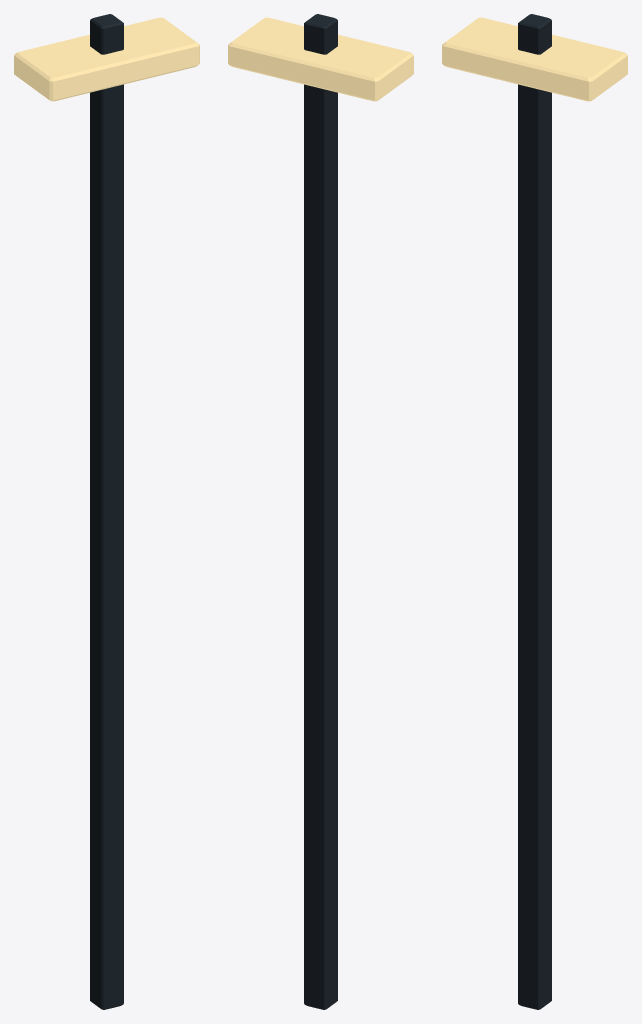
The model's file is lamp-existing.glb.
3 views of the same model, side by side, from view 1: azimuth 30°, elevation 25°; view 2: azimuth 150°, elevation 25°; view 3: azimuth 330°, elevation 25° (orthographic).
Visible parts, largest first — view 1: lamp-existing-export; view 2: lamp-existing-export; view 3: lamp-existing-export.
Part boxes in pixels (box(x1,y1,x2,y2)): lamp-existing-export: box(14, 14, 199, 1009); lamp-existing-export: box(228, 14, 413, 1009); lamp-existing-export: box(442, 14, 627, 1009).
Bounding box in the file's own units: 0.8 × 5 × 0.35.
